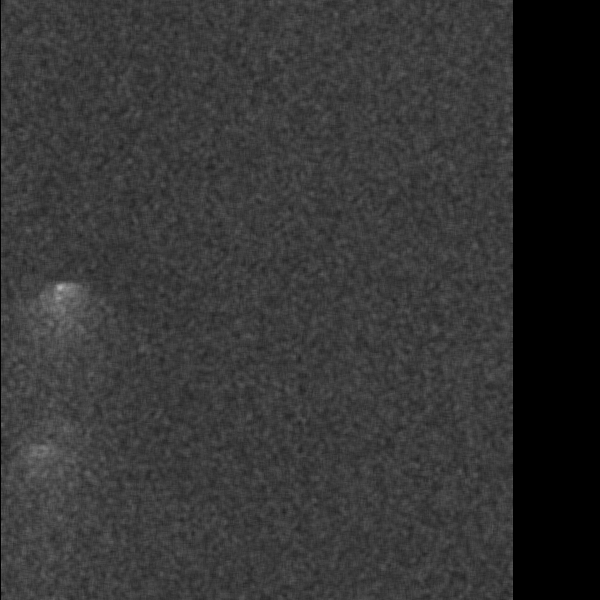spark: (311, 62, 344, 174), (91, 95, 123, 202), (314, 472, 342, 581), (311, 355, 343, 439), (236, 276, 255, 322)
